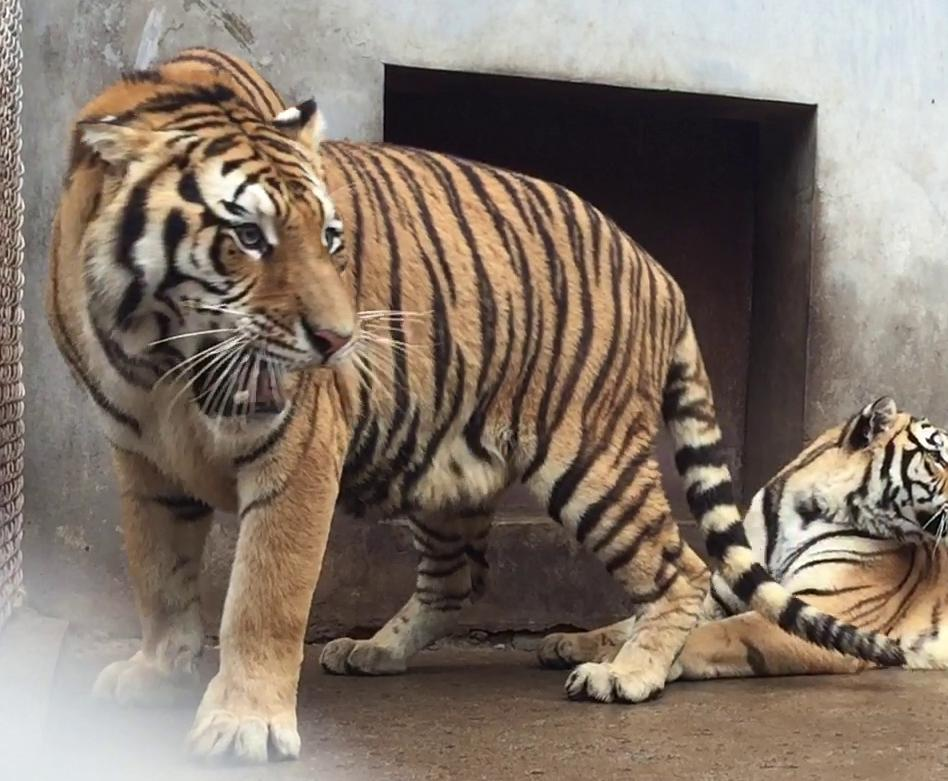tiger: (49, 49, 933, 761)
